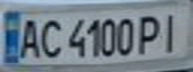0: (115, 14, 139, 56), (100, 15, 118, 57)
1: (81, 15, 103, 57)
4: (63, 15, 87, 58)
A: (15, 16, 42, 60)
C: (36, 16, 66, 58)
I: (157, 9, 187, 53)
P: (136, 11, 166, 55)
